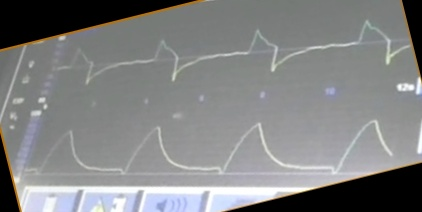Flow: (58, 18, 410, 84)
Leakage Volume: (26, 117, 391, 177)
